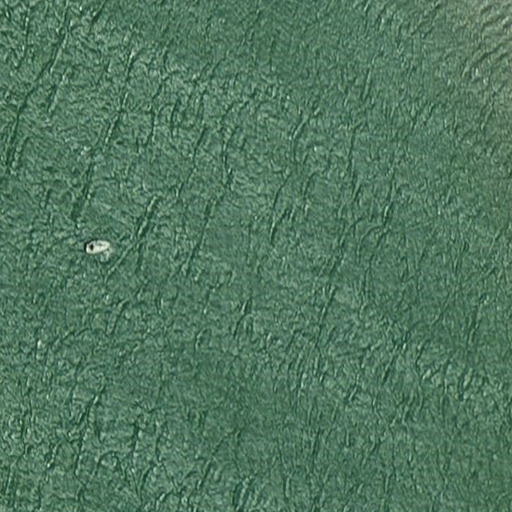ship: (82, 236, 112, 258)
